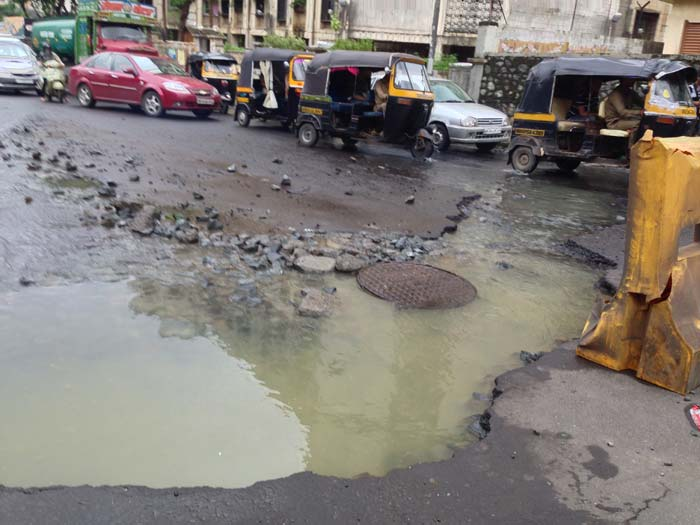pothole: (7, 203, 642, 501)
